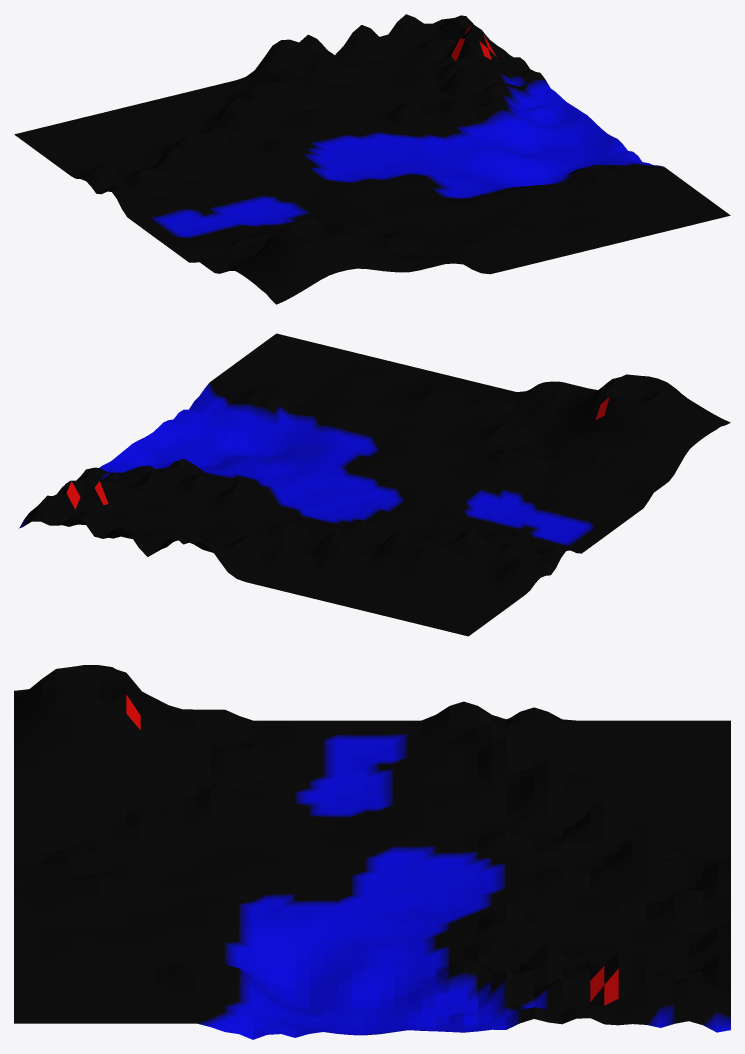
Rendered from world_landscape_6km.glb.
3 renders of one model, top to bottom at view 1: azimuth 30°, elevation 25°; view 2: azimuth 150°, elevation 25°; view 3: azimuth 270°, elevation 25°, orthographic. The views are drawn at different scales.
Parts seen in each view (by area): view 1: geo; view 2: geo; view 3: geo.
Part boxes in pixels (box(x1,y1,x2,y2)): geo: box(14, 14, 730, 304); geo: box(19, 333, 730, 636); geo: box(14, 665, 730, 1039).
Bounding box in the file's own units: 6000 × 1079 × 6000.
